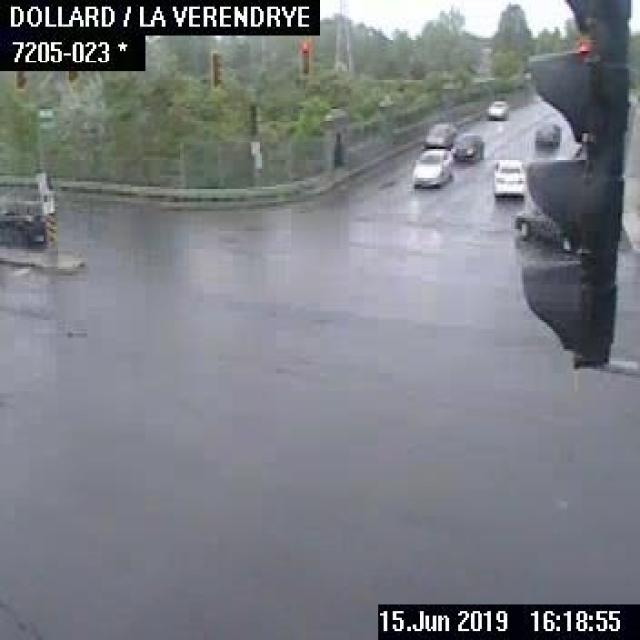vehicle: (512, 207, 578, 252), (0, 193, 49, 247), (411, 148, 452, 185), (491, 156, 526, 193), (450, 132, 482, 162), (422, 118, 456, 146), (533, 120, 560, 149), (484, 96, 509, 120)
